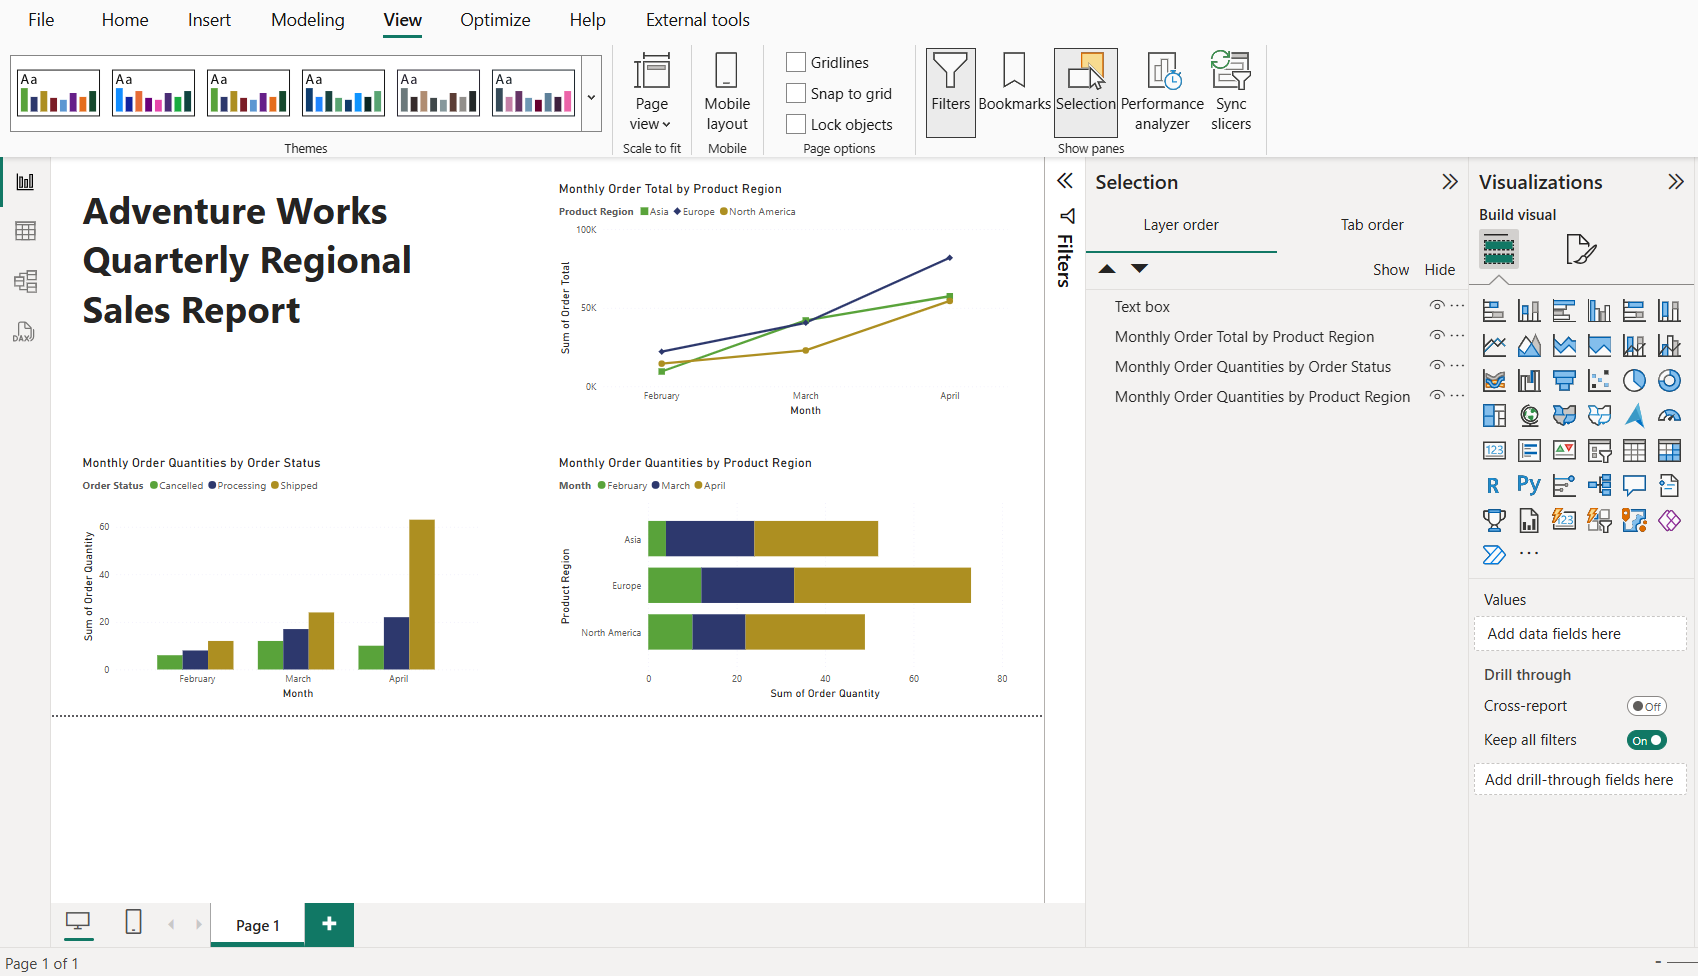

Layout of this report page (visuals, bound fields, positions):
{"tool":"powerbi","page":{"name":"Page 1","canvas":[1280,720],"ordinal":0},"visuals":[{"type":"barChart","title":"Monthly Order Quantities by Product Region","fields":{"Category":["Sales.Product Region"],"Y":["Sum(Sales.Order Quantity)"],"Series":["Sales.Order Date.Variation.Date Hierarchy.Month"]},"box":[650,384,589,321],"z":3000},{"type":"clusteredColumnChart","title":"Monthly Order Quantities by Order Status","fields":{"Category":["Sales.Month"],"Y":["Sum(Sales.Order Quantity)"],"Series":["Sales.Order Status"]},"box":[36,384,522,321],"z":3125},{"type":"lineChart","title":"Monthly Order Total by Product Region","fields":{"Category":["Sales.Month"],"Y":["Sum(Sales.Order Total)"],"Series":["Sales.Product Region"]},"box":[650,30,589,309],"z":3250},{"type":"textbox","box":[36.2,29.8,522.2,309.5],"z":3500}]}

Visuals, with their boxes on the page's 1280x720 design canvas (x1, y1, x2, y2). These are canvas units, not pixel positions in the 1698x976 screenshot, which may show the page scaled, cropped or inside an application window:
"Monthly Order Quantities by Product Region" barChart: pyautogui.locateOnScreen(650, 384, 1239, 705)
"Monthly Order Quantities by Order Status" clusteredColumnChart: pyautogui.locateOnScreen(36, 384, 558, 705)
"Monthly Order Total by Product Region" lineChart: pyautogui.locateOnScreen(650, 30, 1239, 339)
textbox: pyautogui.locateOnScreen(36, 30, 558, 339)
